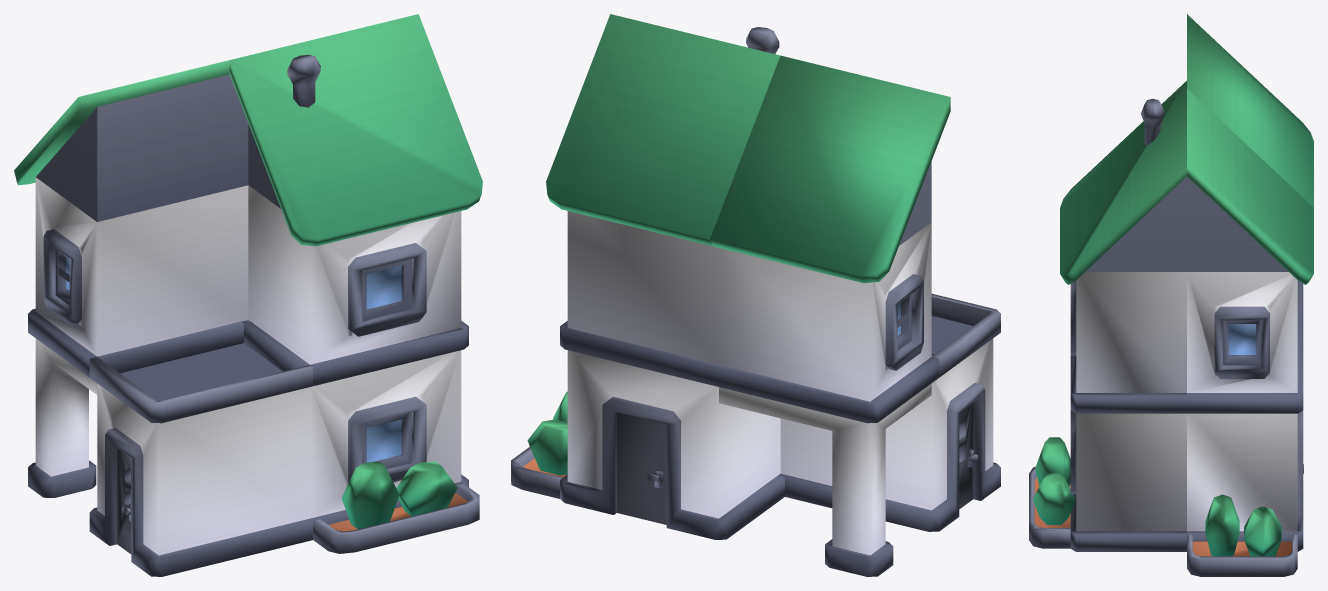
The model's file is n1_building-type-r_lev1.001.glb.
The picture shows the model from 3 angles, left to right: view 1: azimuth 30°, elevation 25°; view 2: azimuth 150°, elevation 25°; view 3: azimuth 270°, elevation 25°; orthographic projection. The views are drawn at different scales.
Parts seen in each view (by area): view 1: n1_building-type-r_lev1.001; view 2: n1_building-type-r_lev1.001; view 3: n1_building-type-r_lev1.001.
Boxes of the visible parts, bbox=[...] form: n1_building-type-r_lev1.001: bbox=[14, 14, 482, 576]; n1_building-type-r_lev1.001: bbox=[511, 14, 1000, 576]; n1_building-type-r_lev1.001: bbox=[1029, 14, 1313, 576].
Bounding box in the file's own units: 7.9 × 8.59 × 5.61.
1 material, 1 textured.
